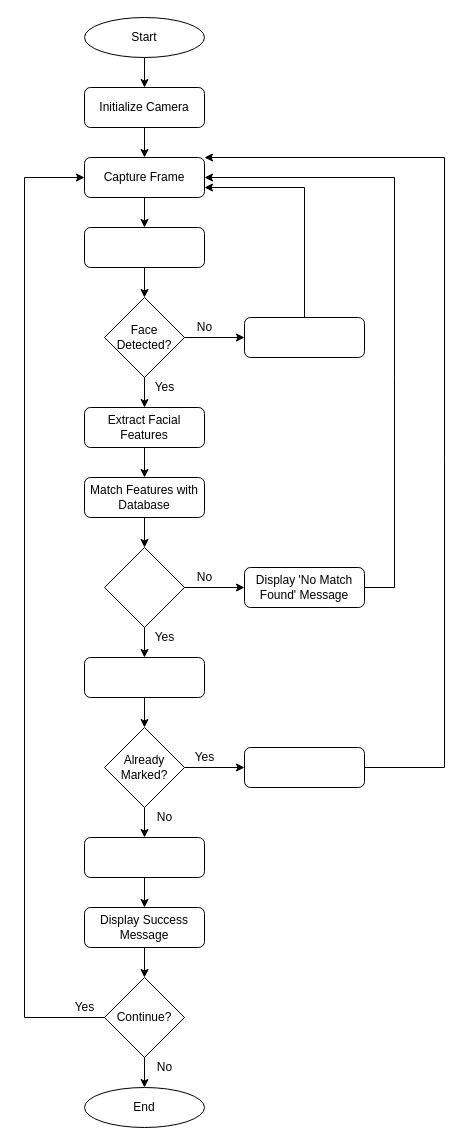
Some shapes in this 470 by 1145 pixel diagram are drawn without their labels. Here are the shapes that lost their labels. From the top down, the box of each, then its label:
(84, 226, 204, 268): Detect Face in Frame
(244, 316, 364, 358): Display 'No Face Detected' Message
(104, 546, 184, 628): Match Found?
(84, 656, 204, 698): Check for Duplicate Attendance
(244, 746, 364, 788): Display 'Already Marked' Message
(84, 836, 204, 878): Mark Attendance
